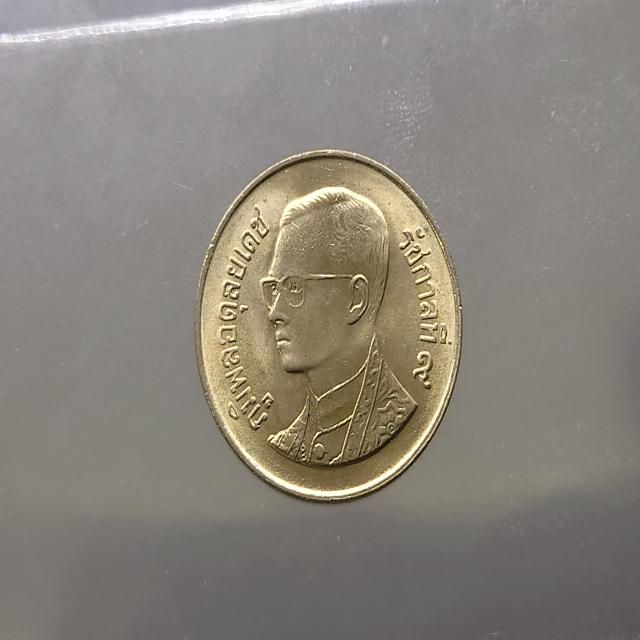1 Bath: (190, 138, 474, 516)
